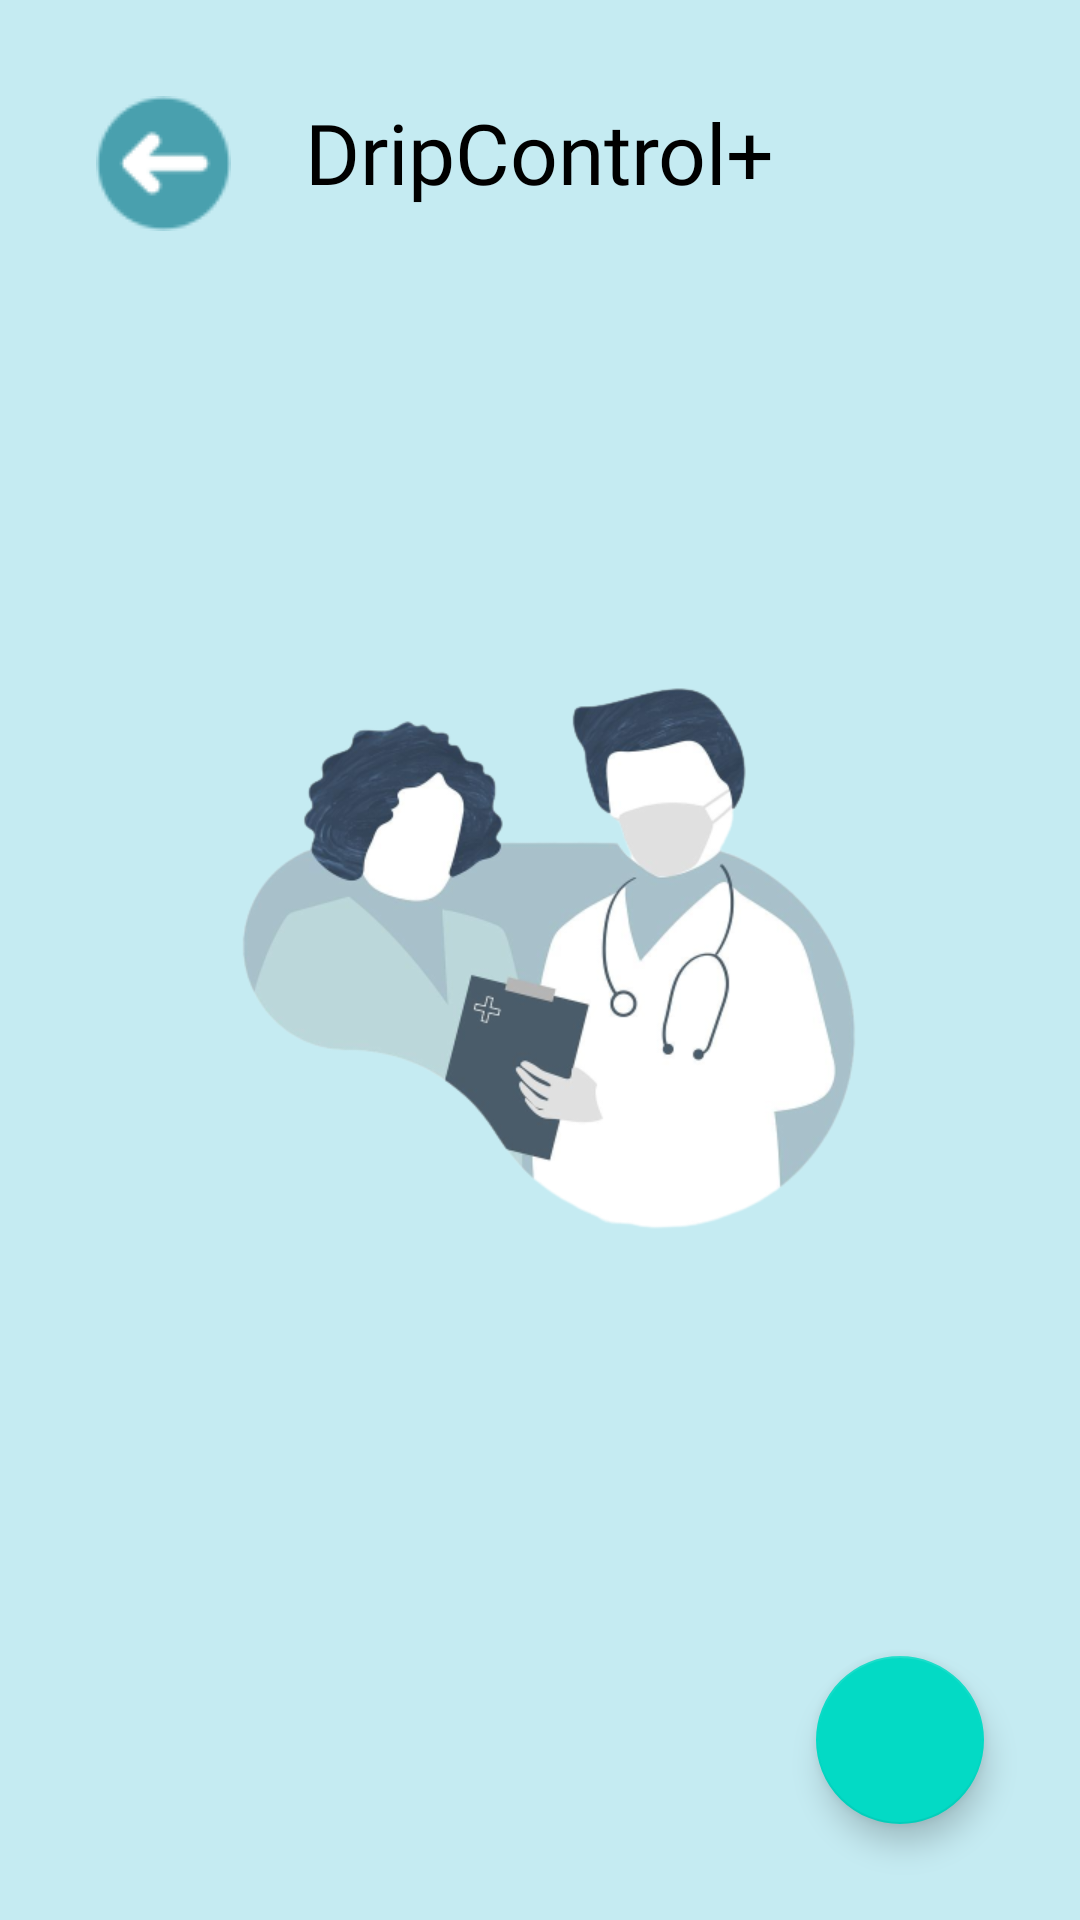

Point at icon controls on the screen. Image size 1080×1920, points as (x=x, y=y).
left: (x=163, y=163)
